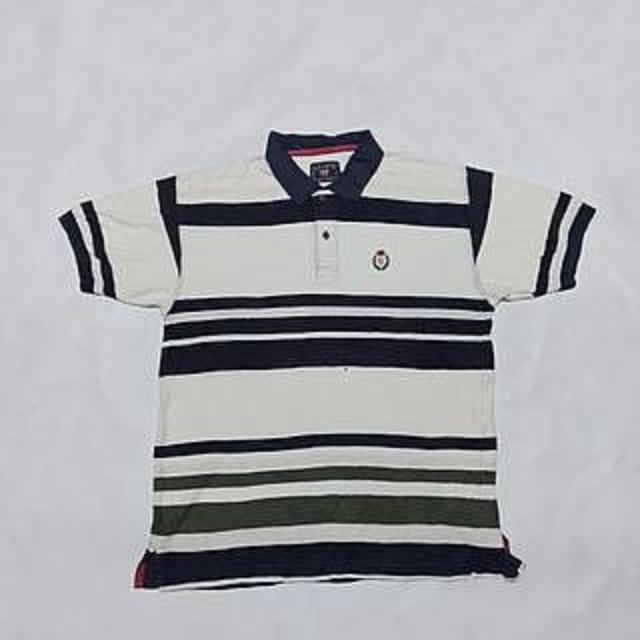T_SHIRT: (48, 120, 609, 598)
